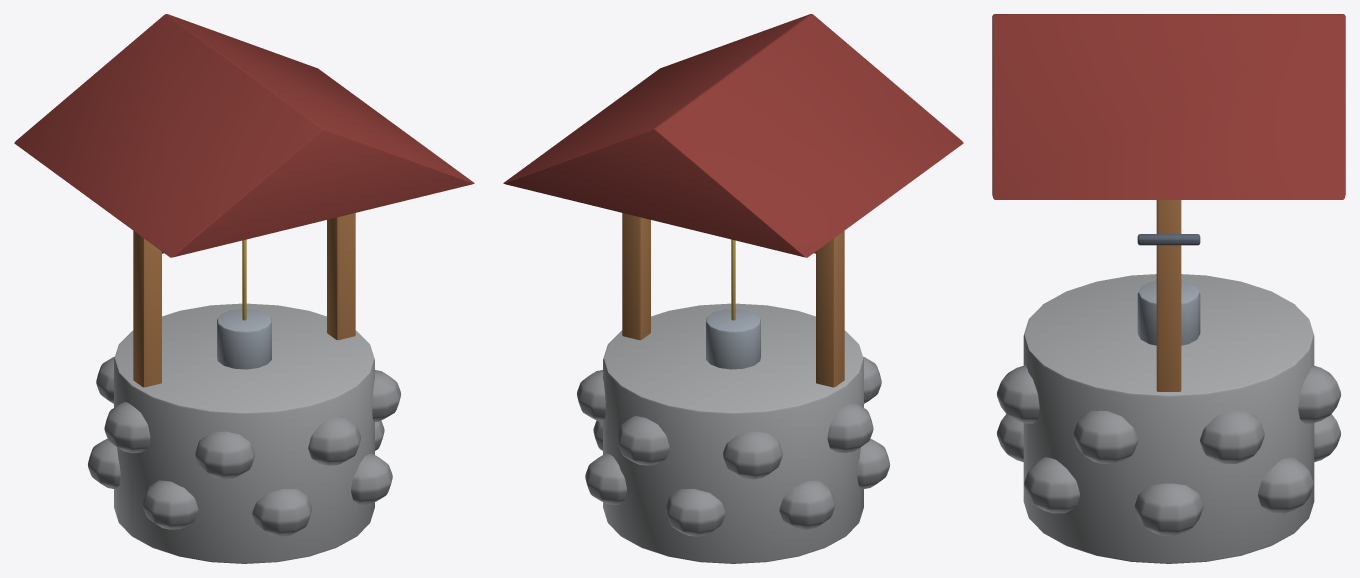
Rendered from well.glb.
3 renders of one model, left to right at view 1: azimuth 30°, elevation 25°; view 2: azimuth 150°, elevation 25°; view 3: azimuth 270°, elevation 25°, orthographic. The views are drawn at different scales.
Visible parts, largest first — view 1: WellMesh; view 2: WellMesh; view 3: WellMesh.
Boxes of the visible parts, x1=… form: WellMesh: x1=14, y1=14, x2=474, y2=563; WellMesh: x1=503, y1=14, x2=963, y2=563; WellMesh: x1=992, y1=14, x2=1345, y2=563.
Size of the model in its own units: 1.89 by 2.6 by 1.7.
